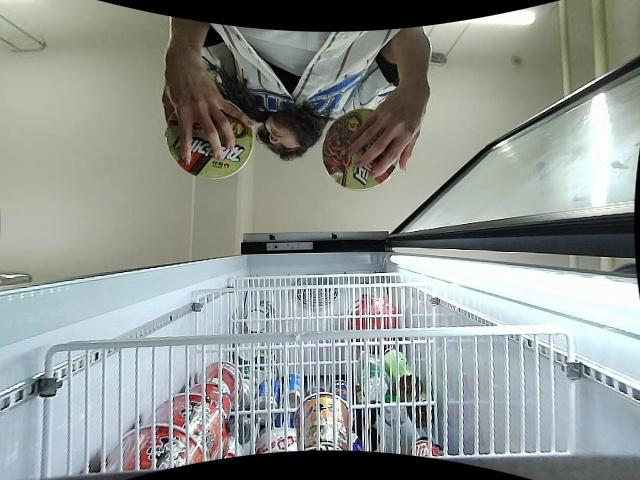00_hand: (163, 47, 255, 167), (345, 80, 431, 177)
03_chapagetti_L: (166, 101, 253, 180), (323, 108, 399, 189)
